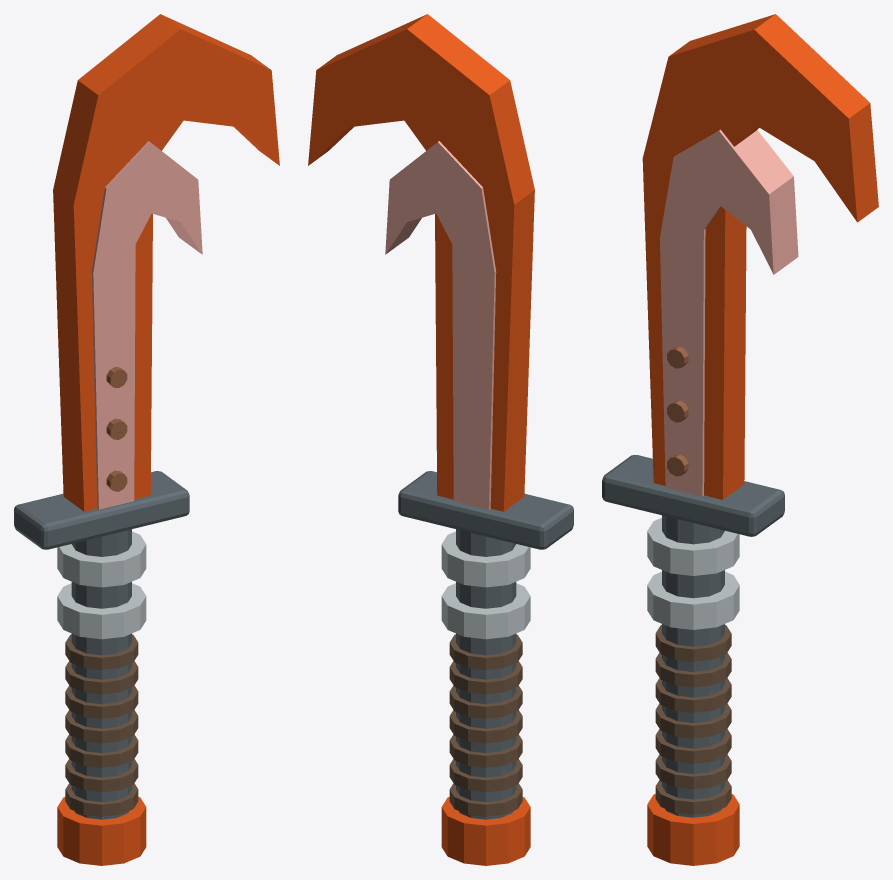
Rendered from Hook.fbx.
3 views of the same model, side by side, from view 1: azimuth 30°, elevation 25°; view 2: azimuth 150°, elevation 25°; view 3: azimuth 330°, elevation 25° (orthographic). The views are drawn at different scales.
Visible parts, largest first — view 1: Silhouette, Noyau, Manche, Garde, Pommeau, Collier, Collier.001, Bande_06, Bande_02, Bande_03, Bande_00, Bande_05 (+2 smaller); view 2: Silhouette, Noyau, Manche, Garde, Pommeau, Collier, Collier.001, Bande_06, Bande_02, Bande_03, Bande_00, Bande_05 (+2 smaller); view 3: Silhouette, Noyau, Manche, Garde, Pommeau, Collier, Collier.001, Bande_06, Bande_03, Bande_01, Bande_05, Bande_00 (+2 smaller).
Boxes of the visible parts, x1,y1,x2,y2 form: Silhouette: (53, 14, 279, 511); Noyau: (91, 141, 202, 509); Manche: (71, 529, 131, 819); Garde: (14, 471, 189, 549); Pommeau: (57, 797, 146, 865); Collier: (57, 583, 146, 639); Collier.001: (57, 531, 146, 587); Bande_06: (65, 634, 138, 669); Bande_02: (65, 734, 138, 767); Bande_03: (65, 710, 138, 743); Bande_00: (65, 783, 138, 816); Bande_05: (65, 661, 138, 694); Silhouette: (308, 14, 534, 511); Noyau: (385, 141, 496, 509); Manche: (456, 529, 516, 819); Garde: (398, 471, 573, 549); Pommeau: (441, 797, 530, 865); Collier: (441, 583, 530, 639); Collier.001: (441, 531, 530, 587); Bande_06: (449, 634, 522, 669); Bande_02: (449, 734, 522, 767); Bande_03: (449, 710, 522, 743); Bande_00: (449, 783, 522, 816); Bande_05: (449, 661, 522, 694); Silhouette: (642, 14, 878, 499); Noyau: (660, 129, 798, 496); Manche: (662, 515, 724, 817); Garde: (602, 455, 784, 536); Pommeau: (647, 794, 739, 865); Collier: (647, 571, 739, 629); Collier.001: (647, 518, 739, 575); Bande_06: (655, 625, 731, 661); Bande_03: (655, 703, 731, 738); Bande_01: (655, 754, 731, 789); Bande_05: (655, 652, 731, 687); Bande_00: (655, 780, 731, 814).
Bounding box in the file's own units: 88 × 281 × 28.
